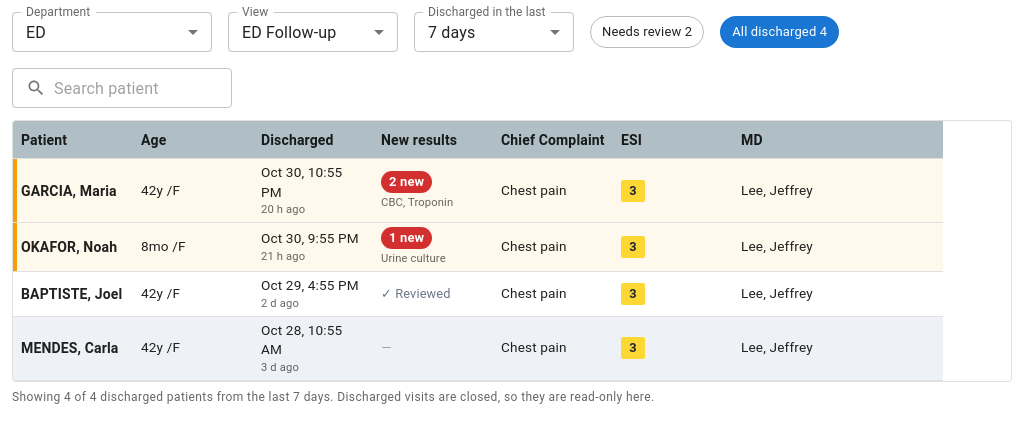
it: choosing a view applies its conditions and its look-back
The width and height of the screenshot is (1024, 421).
Expected: the row with test id "fu-row-1" is shown, top-left (13, 159), bottom-right (943, 223)
Press the mouse on the dropdown labelled "ED Follow-up" at (289, 32), box top-left (242, 22), bottom-right (336, 42)
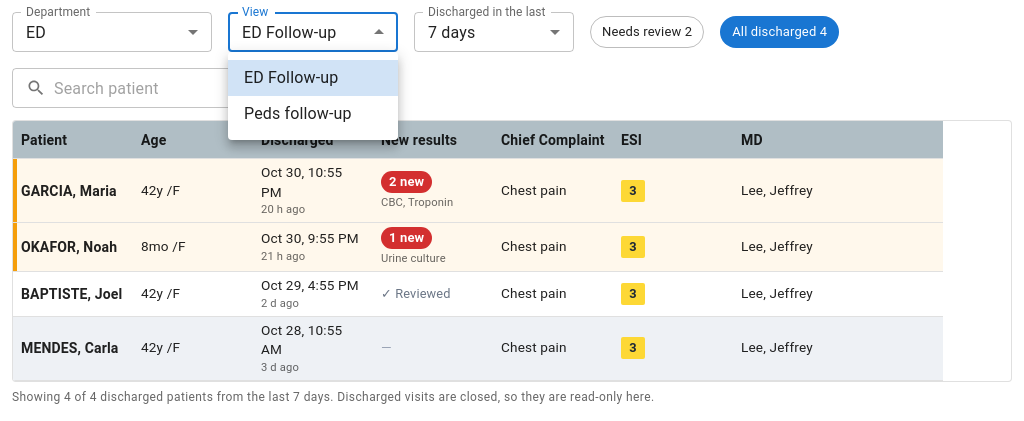
Click the option "Peds follow-up" at (298, 114), box top-left (244, 104), bottom-right (352, 123)
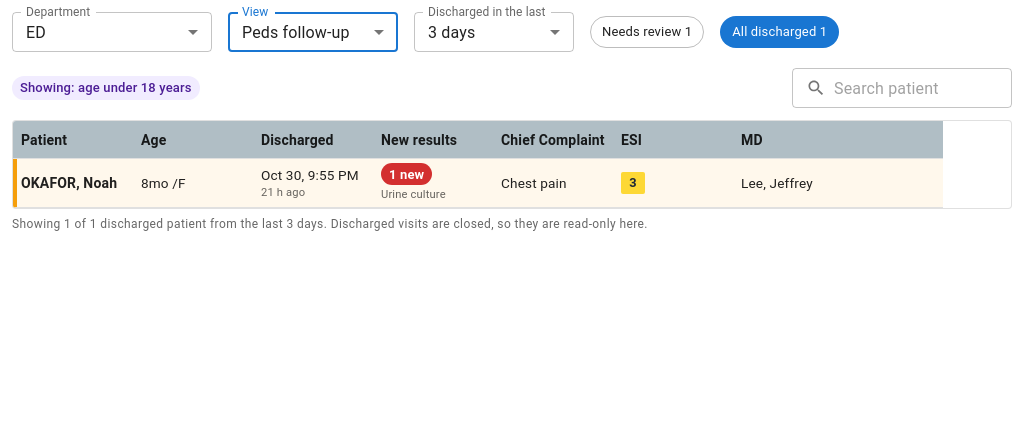
Expected: the element with test id "criteria-chip" reads "Showing: age under 18 years", top-left (20, 80), bottom-right (192, 95)
Expected: the button with test id "chip-review" reads "Needs review 1", top-left (590, 16), bottom-right (704, 48)
